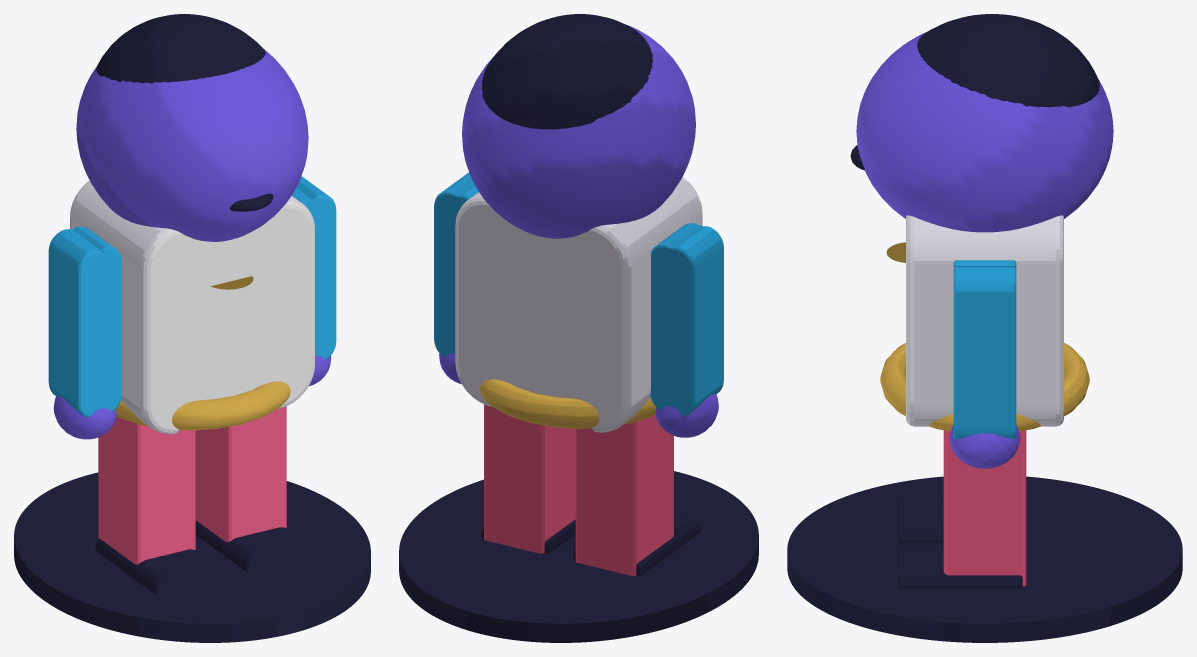
File: 0692_《史记》_高祖刘邦.glb
The picture shows the model from 3 angles, left to right: view 1: azimuth 30°, elevation 25°; view 2: azimuth 150°, elevation 25°; view 3: azimuth 270°, elevation 25°; orthographic projection.
Parts seen in each view (by area): view 1: card_0692; view 2: card_0692; view 3: card_0692.
Part boxes in pixels (box(x1,y1,x2,y2)): card_0692: box(14, 14, 370, 642); card_0692: box(399, 14, 758, 642); card_0692: box(787, 14, 1182, 642).
Size of the model in its own units: 0.5704 by 1 by 0.6404.
